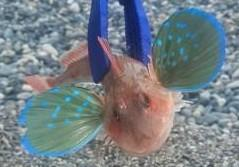fish: (18, 8, 226, 157)
